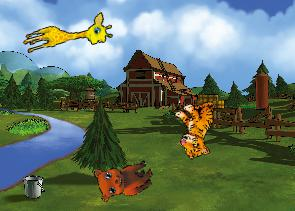bear: (88, 146, 158, 209)
giraffe: (20, 10, 115, 64)
tiger: (168, 95, 228, 161)
